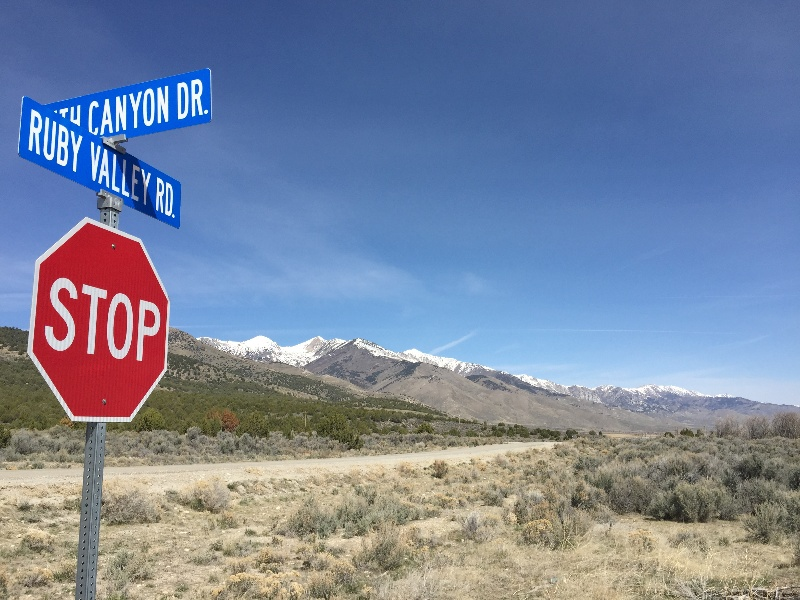stop sign: (21, 213, 175, 421)
